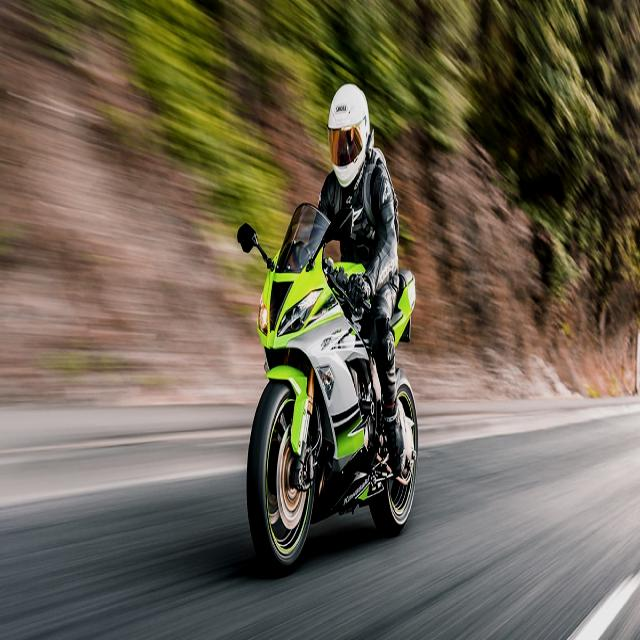MOTORCYCLE: (249, 210, 414, 570)
